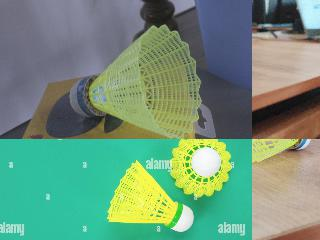shuttlecock: (70, 26, 200, 138), (107, 160, 193, 232), (170, 139, 233, 198), (252, 139, 311, 164)
